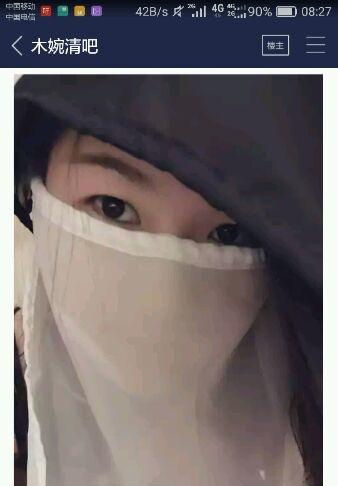OK: (40, 148, 265, 373)
